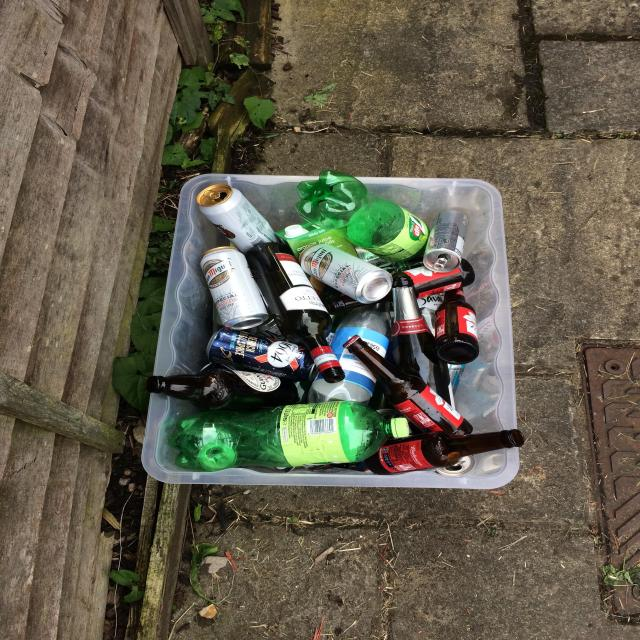litter: (140, 169, 522, 492)
